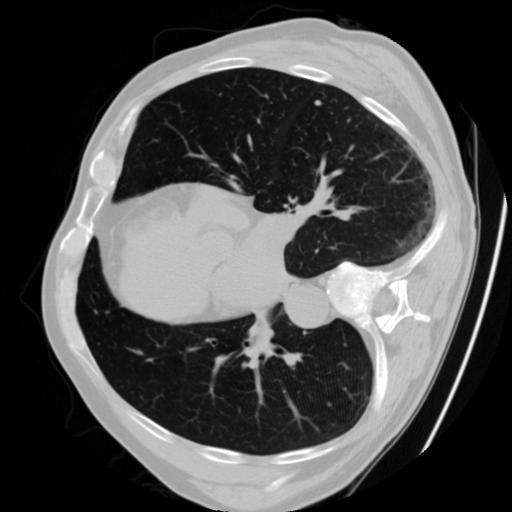nodule: (310, 94, 325, 109)
